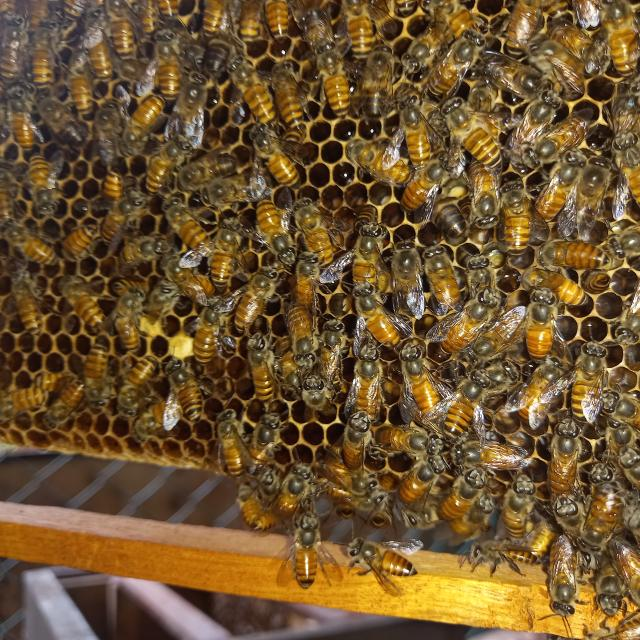honeybee: (326, 222, 408, 296), (186, 217, 260, 286), (350, 276, 410, 358), (140, 28, 207, 98), (246, 128, 313, 197), (514, 107, 584, 172), (442, 96, 504, 166), (384, 96, 444, 167), (501, 91, 564, 158), (434, 370, 491, 444), (432, 290, 492, 359), (481, 51, 556, 106), (179, 294, 236, 366), (339, 536, 421, 586), (231, 57, 284, 134), (521, 37, 583, 102), (396, 152, 464, 211), (393, 341, 443, 421), (496, 170, 543, 255), (391, 234, 433, 328), (427, 32, 485, 100), (246, 199, 302, 269), (598, 75, 640, 166), (318, 318, 360, 409), (537, 152, 587, 227), (283, 511, 330, 590), (511, 357, 561, 430), (342, 140, 418, 188), (420, 249, 473, 316), (290, 197, 340, 268), (54, 274, 110, 337), (597, 0, 640, 82), (228, 264, 282, 329), (568, 343, 611, 424), (346, 343, 391, 420), (515, 264, 584, 314), (332, 0, 389, 60), (5, 261, 50, 336), (0, 217, 58, 275), (476, 302, 532, 362), (289, 0, 344, 61), (568, 156, 610, 235), (262, 336, 310, 404), (581, 482, 620, 562), (164, 358, 214, 420), (546, 528, 582, 614), (541, 9, 596, 65), (548, 416, 586, 497), (416, 0, 485, 44), (592, 548, 634, 620), (313, 45, 357, 112), (101, 191, 146, 256), (520, 288, 560, 359), (272, 66, 311, 138), (464, 538, 542, 574), (517, 509, 568, 564), (358, 46, 398, 116), (493, 471, 535, 537), (455, 436, 535, 470), (212, 409, 252, 477), (400, 18, 450, 72), (167, 255, 216, 310), (248, 335, 290, 398), (143, 140, 187, 200), (462, 255, 504, 317), (112, 287, 152, 352), (36, 98, 85, 151), (284, 304, 320, 375), (173, 76, 210, 145), (122, 102, 168, 157), (609, 140, 640, 221), (424, 189, 468, 246), (396, 458, 445, 509), (442, 469, 494, 517), (467, 157, 503, 225), (316, 459, 380, 497), (81, 7, 114, 80), (243, 407, 277, 477), (538, 236, 612, 268), (501, 0, 543, 56), (158, 19, 208, 66), (102, 0, 142, 58), (606, 538, 640, 606), (92, 101, 126, 167), (237, 484, 280, 536), (199, 175, 271, 206), (117, 355, 156, 412), (375, 426, 442, 459), (22, 153, 57, 216), (336, 410, 376, 465), (81, 346, 115, 409), (113, 234, 176, 268), (10, 93, 46, 152), (174, 148, 238, 181), (278, 465, 320, 515), (28, 20, 59, 86), (70, 53, 102, 115), (322, 483, 386, 513), (594, 384, 640, 424), (0, 11, 23, 88), (131, 409, 179, 444), (580, 32, 616, 78), (188, 0, 234, 35), (128, 0, 164, 42), (6, 390, 56, 420), (58, 223, 100, 258), (47, 381, 83, 421), (600, 228, 640, 260), (600, 422, 640, 454), (237, 0, 264, 46), (364, 493, 396, 531), (296, 375, 332, 408), (0, 163, 22, 217), (617, 489, 640, 540), (621, 444, 640, 501), (572, 0, 604, 32), (265, 2, 289, 41), (100, 169, 125, 206), (25, 0, 53, 29), (543, 0, 571, 28), (585, 460, 611, 490), (153, 0, 184, 24), (207, 42, 231, 69), (582, 267, 607, 292), (358, 206, 381, 230), (62, 0, 84, 23), (393, 0, 418, 16), (337, 493, 354, 516)
